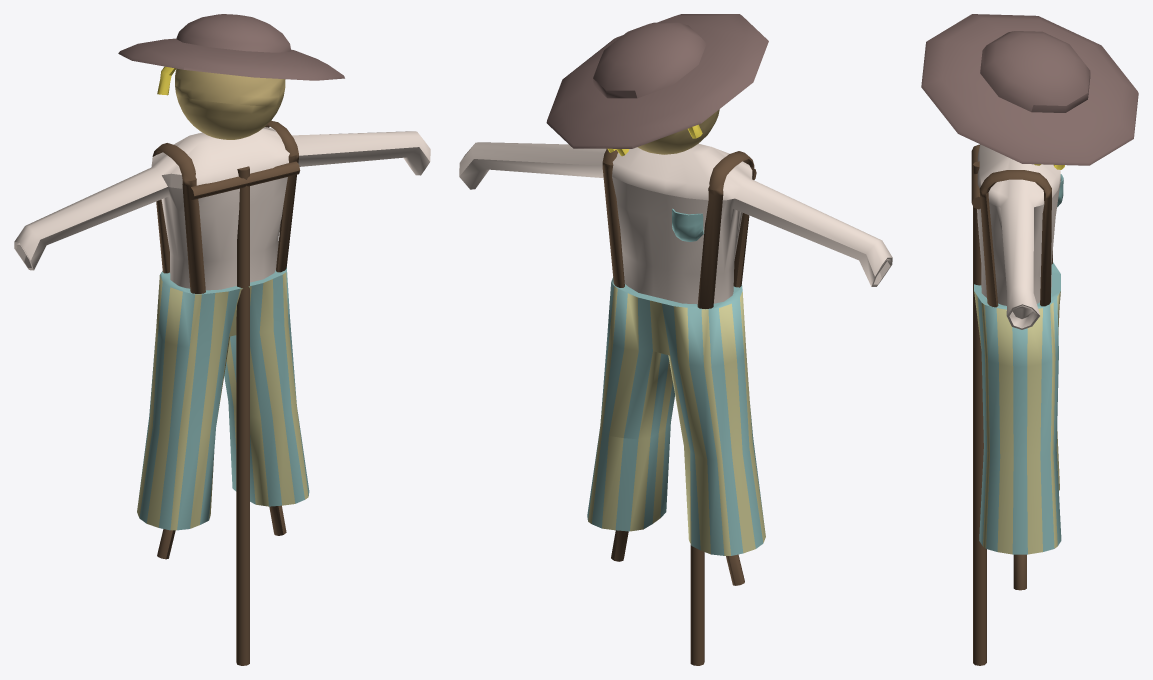
File: mesh_scarecrow.fbx
3 renders of one model, left to right at view 1: azimuth 30°, elevation 25°; view 2: azimuth 150°, elevation 25°; view 3: azimuth 270°, elevation 25°, orthographic. The views are drawn at different scales.
Parts seen in each view (by area): view 1: pCylinder14; view 2: pCylinder14; view 3: pCylinder14.
Part boxes in pixels (x1,y1,x2,y2): pCylinder14: (14,14,430,665); pCylinder14: (459,14,892,665); pCylinder14: (921,14,1138,665).
Size of the model in its own units: 168 by 246 by 77.11.
